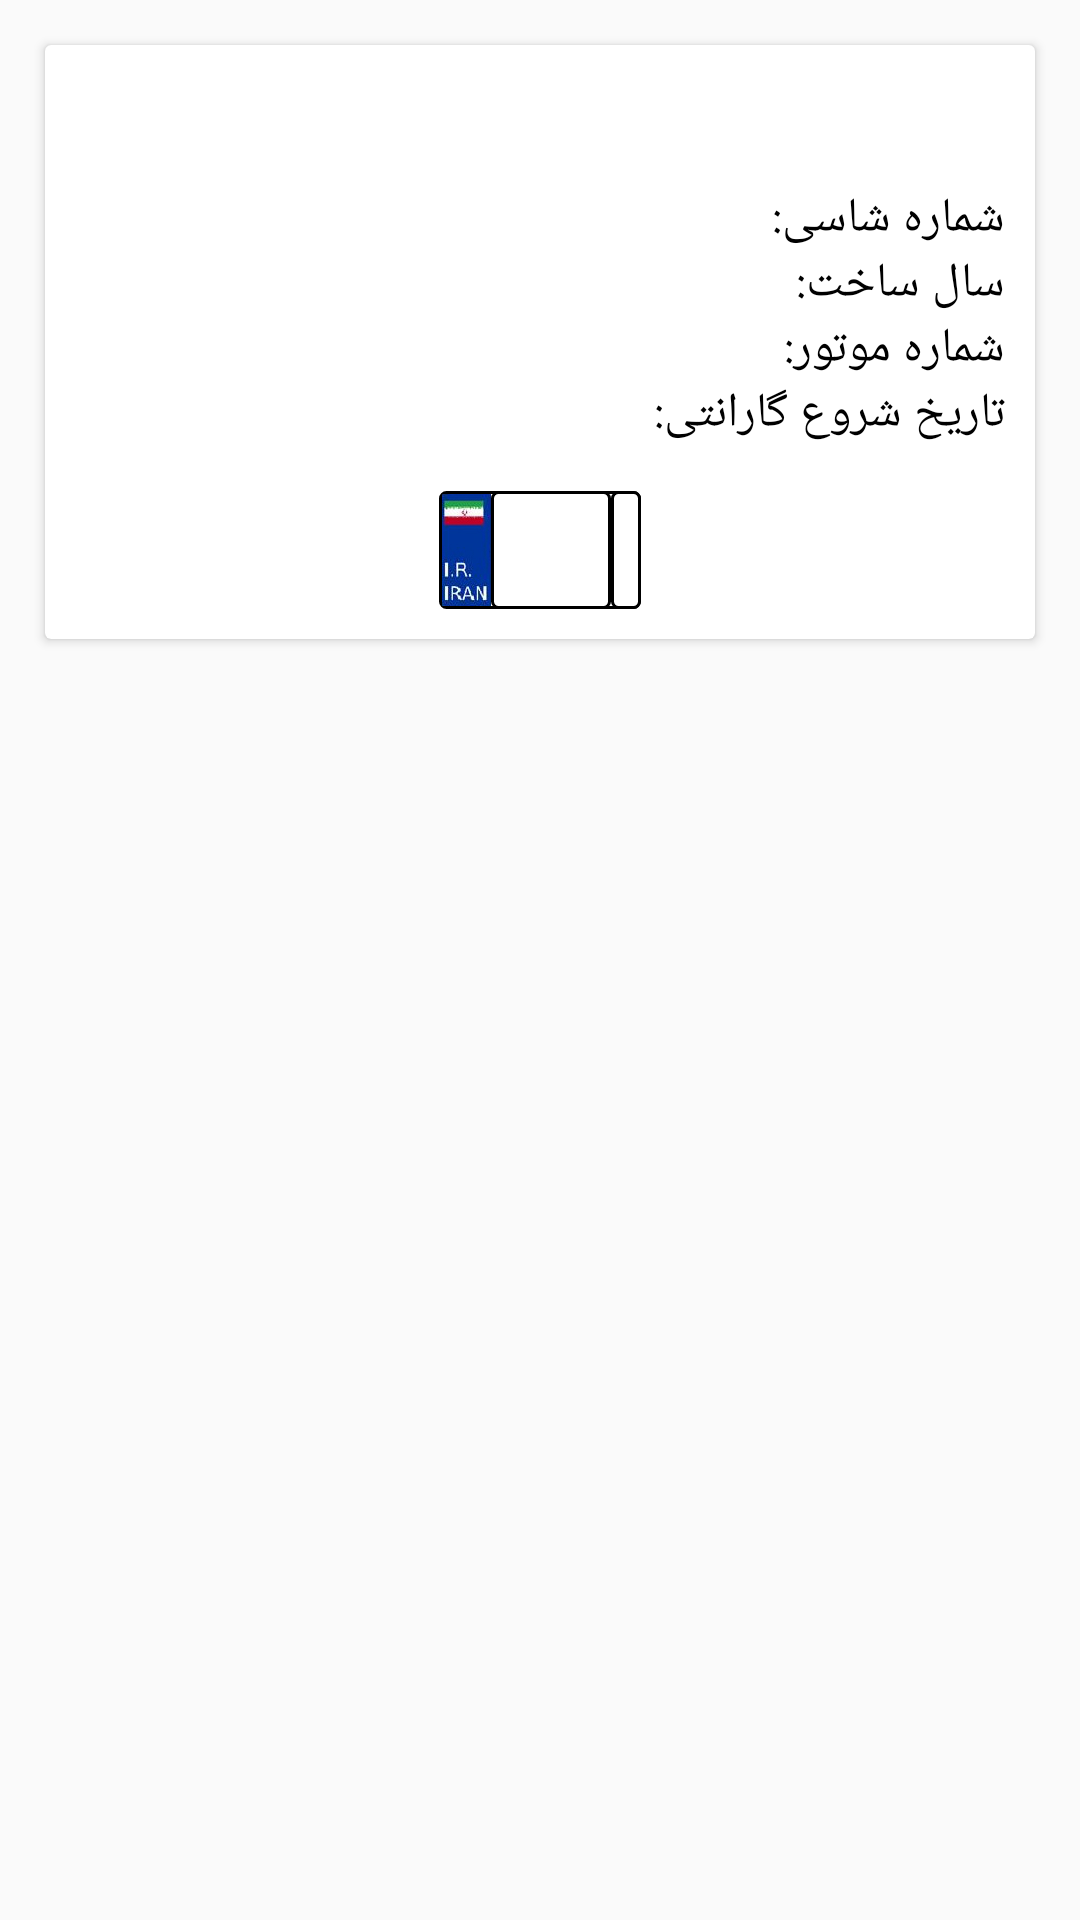

Screen size 1080px×1920px. Icon name, then its center in pixels as (x,y):
plate flag: (465,550)
